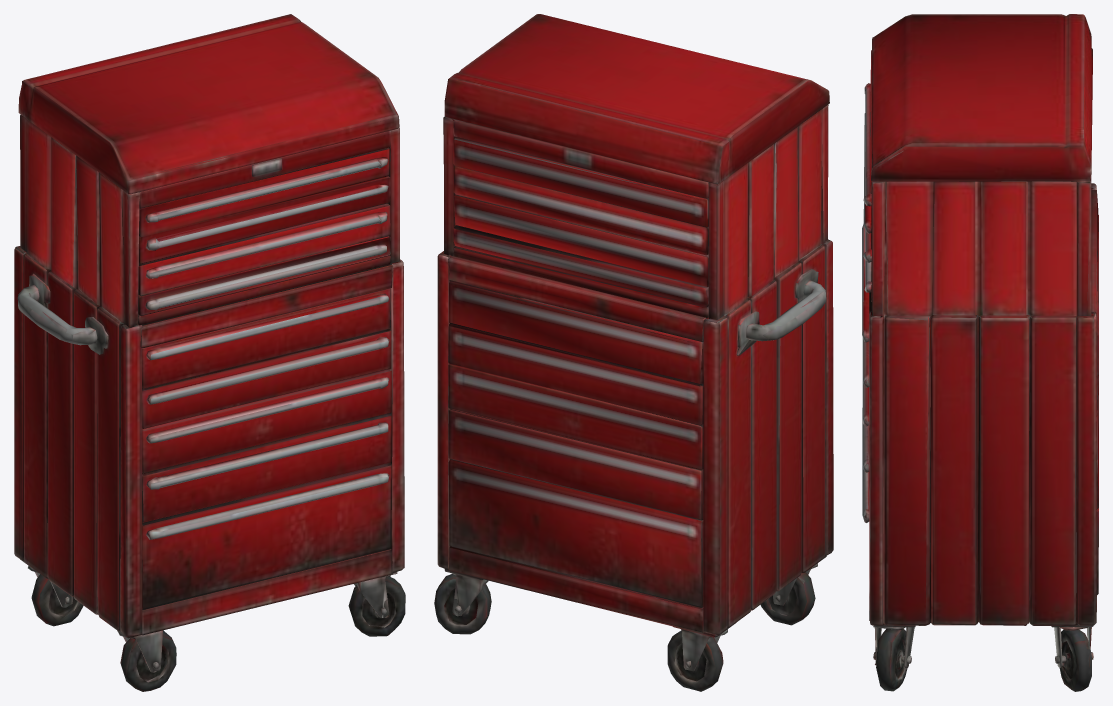
File: p7-rolling-tool-chest-t25.glb
3 views of the same model, side by side, from view 1: azimuth 30°, elevation 25°; view 2: azimuth 150°, elevation 25°; view 3: azimuth 270°, elevation 25° (orthographic).
Parts seen in each view (by area): view 1: p7-rolling-tool-chest-t25; view 2: p7-rolling-tool-chest-t25; view 3: p7-rolling-tool-chest-t25.
Part boxes in pixels (x1,y1,x2,y2): p7-rolling-tool-chest-t25: (14, 14, 405, 691); p7-rolling-tool-chest-t25: (434, 14, 833, 691); p7-rolling-tool-chest-t25: (862, 14, 1098, 691).
Size of the model in its own units: 0.7 by 1.15 by 0.45.
1 material, 1 textured.
